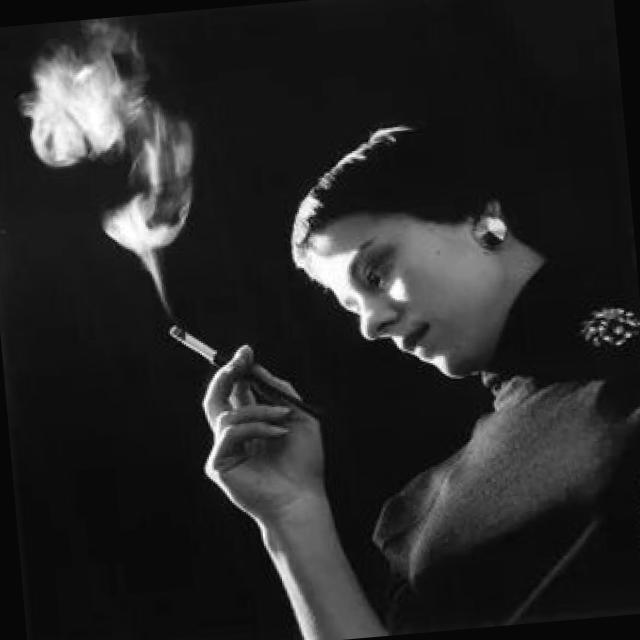smoke: (164, 318, 227, 378)
